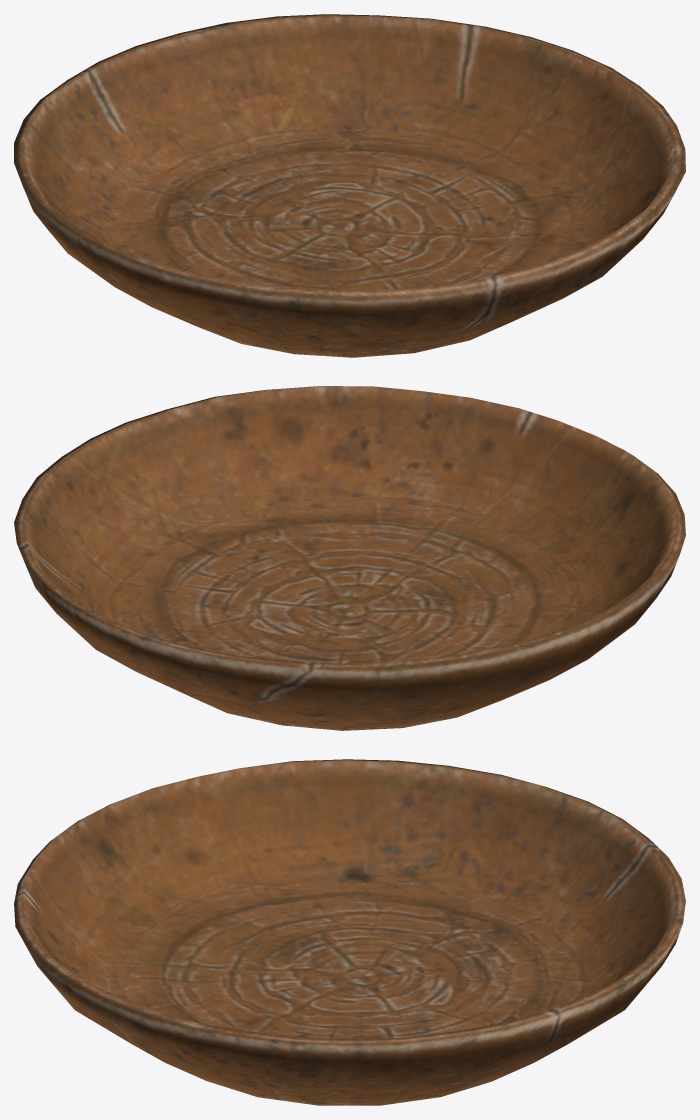
The model's file is NPC_Beggar_Plate.FBX.
3 renders of one model, top to bottom at view 1: azimuth 30°, elevation 25°; view 2: azimuth 150°, elevation 25°; view 3: azimuth 270°, elevation 25°, orthographic.
Visible parts, largest first — view 1: NPC_Beggar_03_Plate; view 2: NPC_Beggar_03_Plate; view 3: NPC_Beggar_03_Plate.
Boxes of the visible parts, x1,y1,x2,y2 form: NPC_Beggar_03_Plate: (14,14,685,357); NPC_Beggar_03_Plate: (14,386,685,730); NPC_Beggar_03_Plate: (14,759,685,1105).
Bounding box in the file's own units: 35.73 × 7.45 × 35.67.
